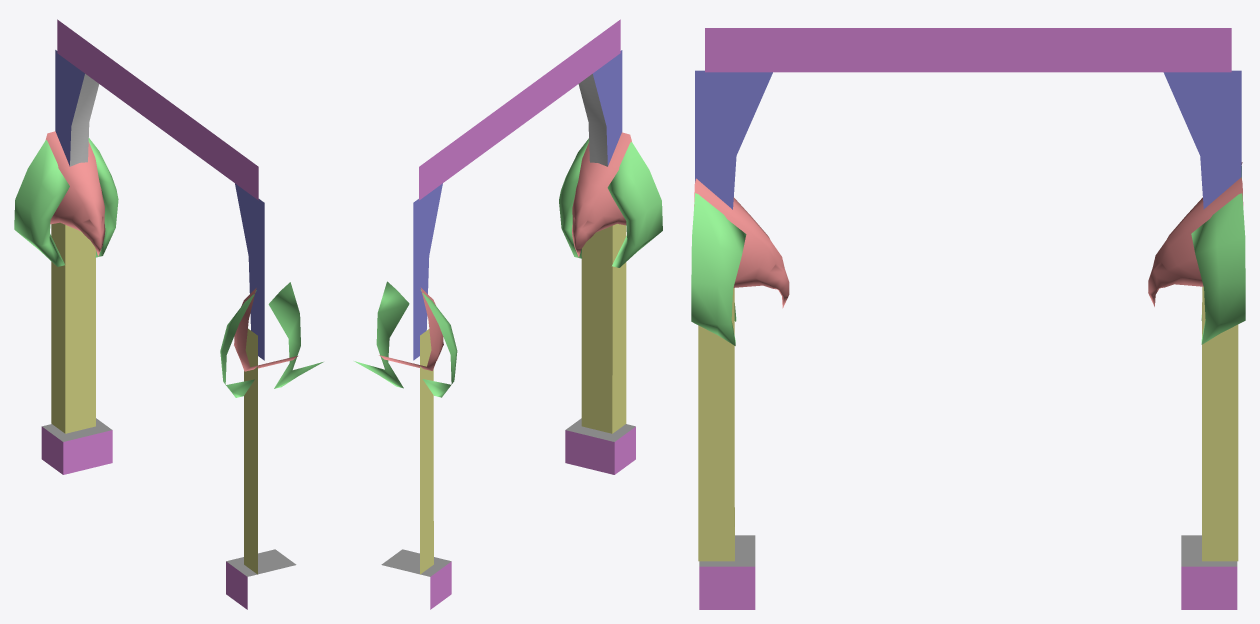
File: SSQ_dungeon_S__SSQ_pillar_021.gltf
3 renders of one model, left to right at view 1: azimuth 30°, elevation 25°; view 2: azimuth 150°, elevation 25°; view 3: azimuth 270°, elevation 25°, orthographic. The views are drawn at different scales.
Visible parts, largest first — view 1: SSQ_pillar_021; view 2: SSQ_pillar_021; view 3: SSQ_pillar_021.
Boxes of the visible parts, <box> form: SSQ_pillar_021: <box>14,19,323,609</box>; SSQ_pillar_021: <box>354,19,662,609</box>; SSQ_pillar_021: <box>691,28,1245,609</box>.
Bounding box in the file's own units: 0.905 × 3.84 × 3.37.
